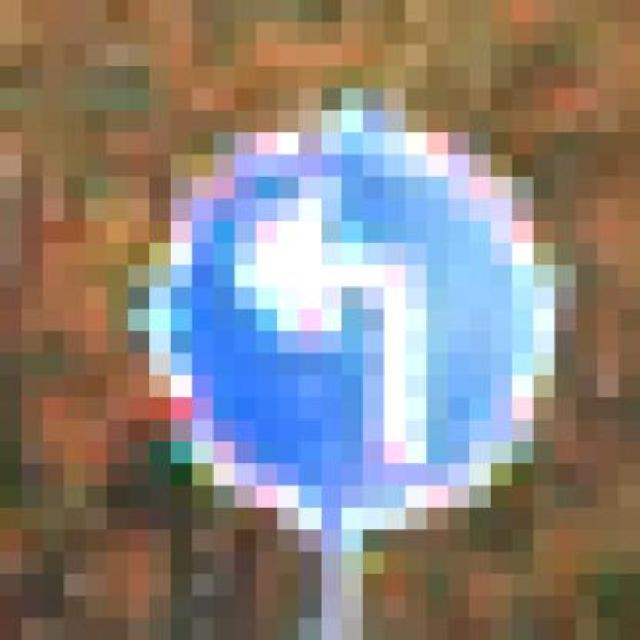Turn left ahead: (127, 89, 618, 552)
